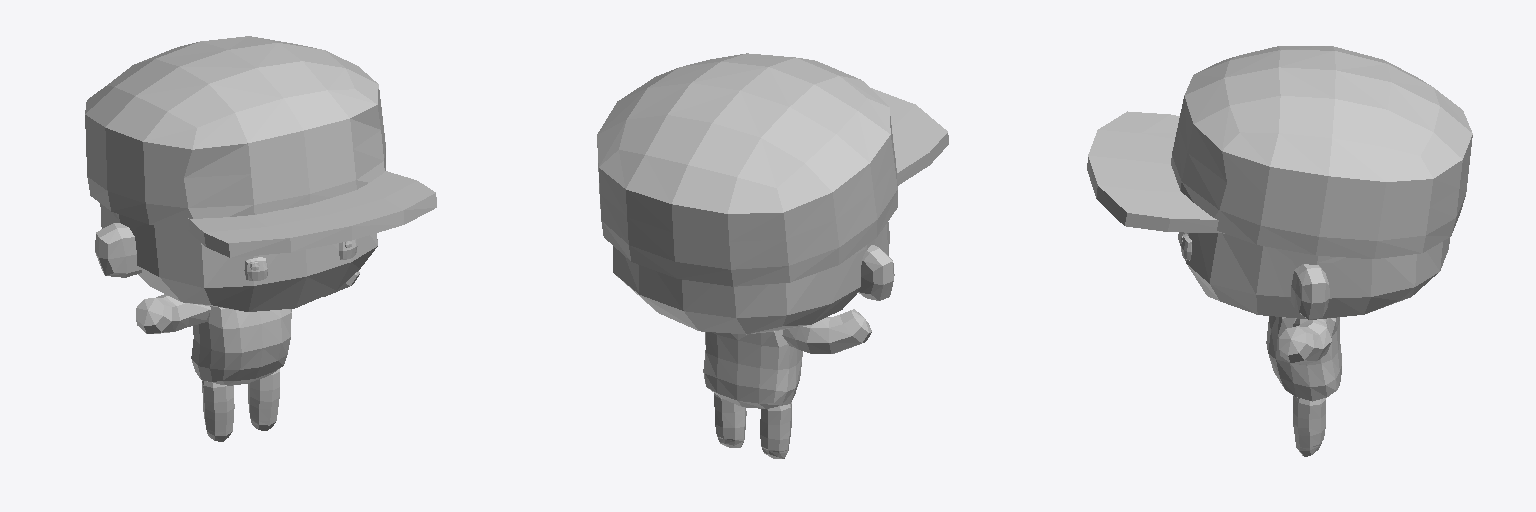
Rendered from jump_0017.obj.
The picture shows the model from 3 angles: view 1: azimuth 30°, elevation 25°; view 2: azimuth 150°, elevation 25°; view 3: azimuth 270°, elevation 25°; orthographic projection.
Parts seen in each view (by area): view 1: Object_41, Object_42, Object_36, Object_44, Object_38; view 2: Object_41, Object_36, Object_44, Object_42; view 3: Object_41, Object_36, Object_42, Object_44.
Boxes of the visible parts, box(x1,y1,x2,y2) form: Object_41: box(85, 36, 385, 229); Object_42: box(184, 105, 436, 257); Object_36: box(95, 203, 377, 311); Object_44: box(136, 271, 359, 441); Object_38: box(244, 239, 357, 280); Object_41: box(597, 53, 897, 286); Object_36: box(613, 222, 894, 334); Object_44: box(703, 309, 871, 458); Object_42: box(871, 88, 948, 185); Object_41: box(1184, 46, 1472, 258); Object_36: box(1178, 232, 1449, 319); Object_42: box(1087, 96, 1226, 233); Object_44: box(1266, 316, 1341, 456).
Bounding box in the file's own units: 0.9691 × 1.23 × 1.14.